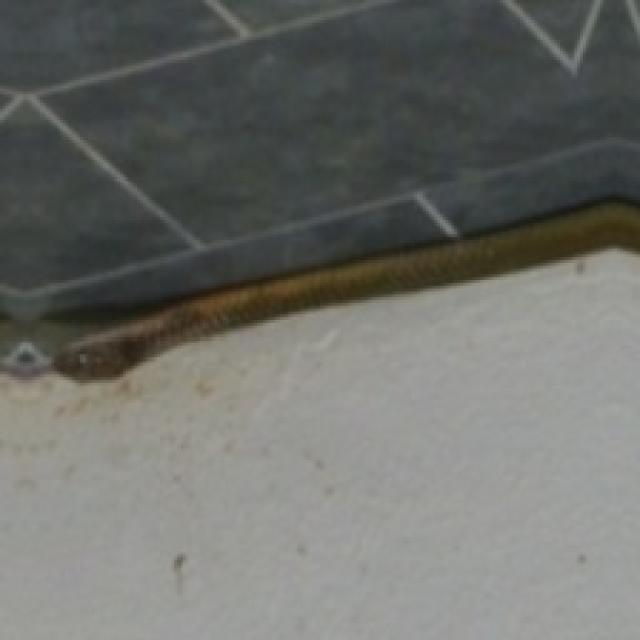king cobra: (51, 200, 637, 377)
